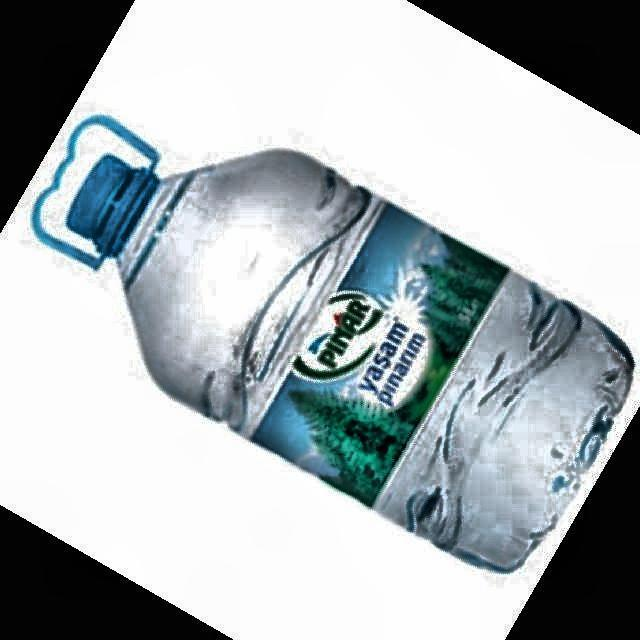plastic: (34, 118, 634, 571)
